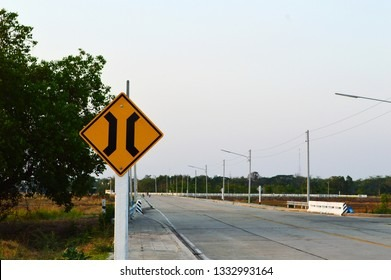narrow-road: (81, 91, 164, 176)
